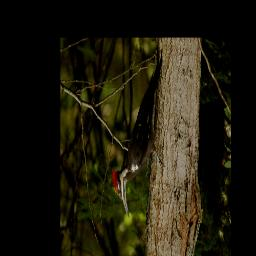Woodpecker: (111, 48, 167, 219)
